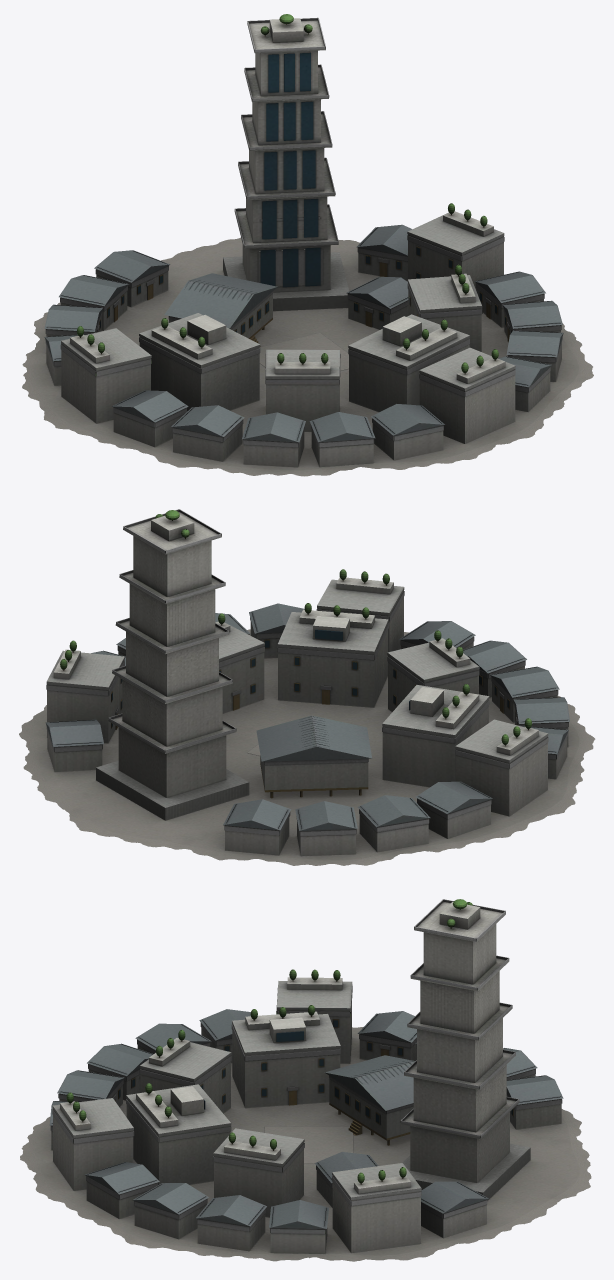
File: modern-town-big-b-monsoon-95d2250b.glb
The picture shows the model from 3 angles, top to bottom: view 1: azimuth 30°, elevation 25°; view 2: azimuth 150°, elevation 25°; view 3: azimuth 270°, elevation 25°; orthographic projection.
Parts seen in each view (by area): view 1: LOD0; view 2: LOD0; view 3: LOD0.
Part boxes in pixels (x1,y1,x2,y2): LOD0: [22, 14, 593, 476]; LOD0: [19, 509, 595, 865]; LOD0: [20, 899, 591, 1261].
Size of what is drawn, in the model's own units: 7.95 by 4.16 by 8.01.
3 materials, 3 textured.
